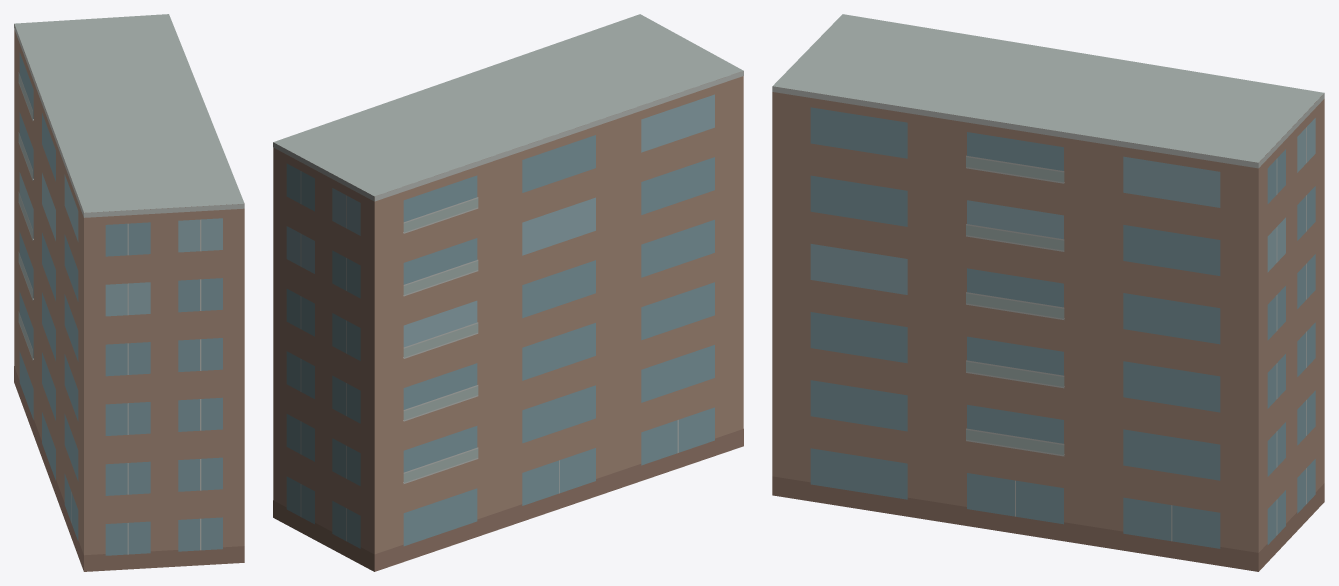
The model's file is survey-upis-32878697.glb.
The picture shows the model from 3 angles, left to right: view 1: azimuth 30°, elevation 25°; view 2: azimuth 150°, elevation 25°; view 3: azimuth 270°, elevation 25°; orthographic projection. The views are drawn at different scales.
Parts seen in each view (by area): view 1: survey-upis-32878697.tmp; view 2: survey-upis-32878697.tmp; view 3: survey-upis-32878697.tmp.
Boxes of the visible parts, x1,y1,x2,y2 form: survey-upis-32878697.tmp: [14, 14, 244, 571]; survey-upis-32878697.tmp: [273, 14, 743, 571]; survey-upis-32878697.tmp: [772, 14, 1324, 571].
Bounding box in the file's own units: 13.73 × 17.6 × 21.53.
